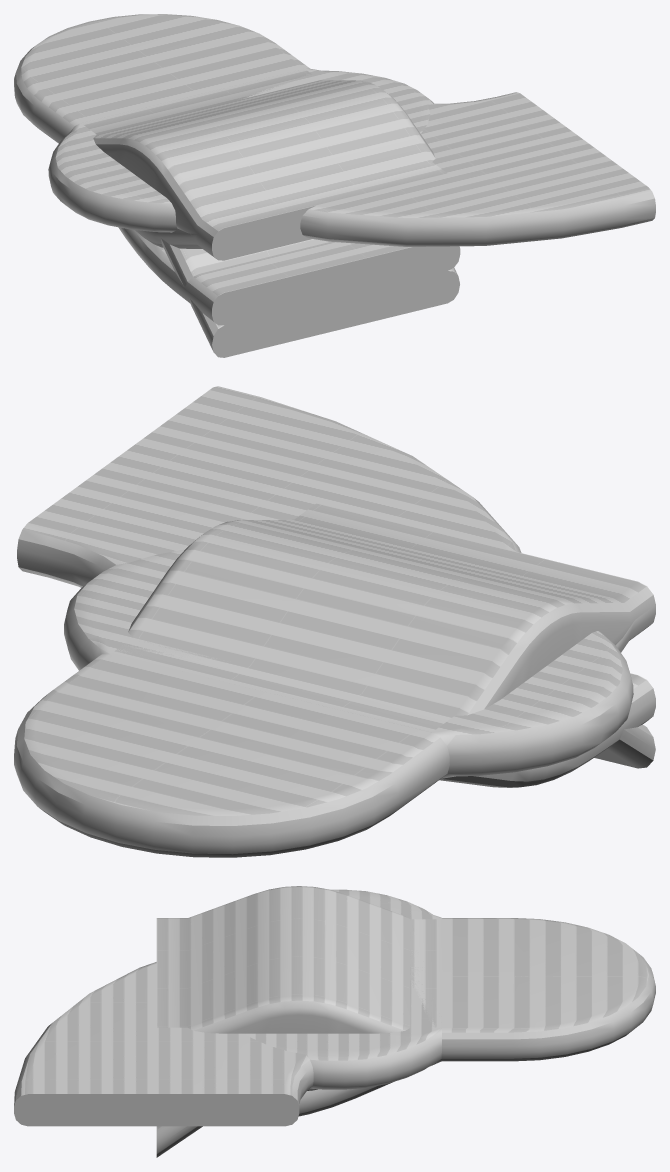
The model's file is Floor_2x4_BothSofter_thin.fbx.
The picture shows the model from 3 angles, top to bottom: view 1: azimuth 30°, elevation 25°; view 2: azimuth 150°, elevation 25°; view 3: azimuth 270°, elevation 25°; orthographic projection. The views are drawn at different scales.
Visible parts, largest first — view 1: Floor_2x4_BSr_Tn_hill, Floor_2x4_BSr_Tn_rotate, Floor_2x4_BSr_Tn_cap, Floor_2x4_BSr_Tn_ramp2, Floor_2x4_BSr_Tn_ramp1, Floor_2x4_BSr_Tn_circle, Floor_2x4_BSr_Tn_deep; view 2: Floor_2x4_BSr_Tn_hill, Floor_2x4_BSr_Tn_cap, Floor_2x4_BSr_Tn_rotate, Floor_2x4_BSr_Tn_circle, Floor_2x4_BSr_Tn_ramp2, Floor_2x4_BSr_Tn_ramp1; view 3: Floor_2x4_BSr_Tn_hill, Floor_2x4_BSr_Tn_rotate, Floor_2x4_BSr_Tn_cap, Floor_2x4_BSr_Tn_circle, Floor_2x4_BSr_Tn_ramp2, Floor_2x4_BSr_Tn_ramp1.
Part boxes in pixels (x1,y1,x2,y2): Floor_2x4_BSr_Tn_hill: (81,68,447,260); Floor_2x4_BSr_Tn_rotate: (300,92,655,246); Floor_2x4_BSr_Tn_cap: (14,14,310,143); Floor_2x4_BSr_Tn_ramp2: (118,227,460,325); Floor_2x4_BSr_Tn_ramp1: (90,70,459,357); Floor_2x4_BSr_Tn_circle: (48,68,433,232); Floor_2x4_BSr_Tn_deep: (135,228,215,258); Floor_2x4_BSr_Tn_hill: (111,503,655,732); Floor_2x4_BSr_Tn_cap: (14,654,449,857); Floor_2x4_BSr_Tn_rotate: (17,386,521,587); Floor_2x4_BSr_Tn_circle: (64,549,633,778); Floor_2x4_BSr_Tn_ramp2: (439,673,655,787); Floor_2x4_BSr_Tn_ramp1: (255,689,655,768); Floor_2x4_BSr_Tn_hill: (156,886,441,1033); Floor_2x4_BSr_Tn_rotate: (14,962,313,1126); Floor_2x4_BSr_Tn_cap: (442,918,655,1061); Floor_2x4_BSr_Tn_circle: (245,889,442,1089); Floor_2x4_BSr_Tn_ramp2: (298,1062,438,1116); Floor_2x4_BSr_Tn_ramp1: (156,1126,202,1157).
Size of the model in its own units: 694 by 249 by 900.
